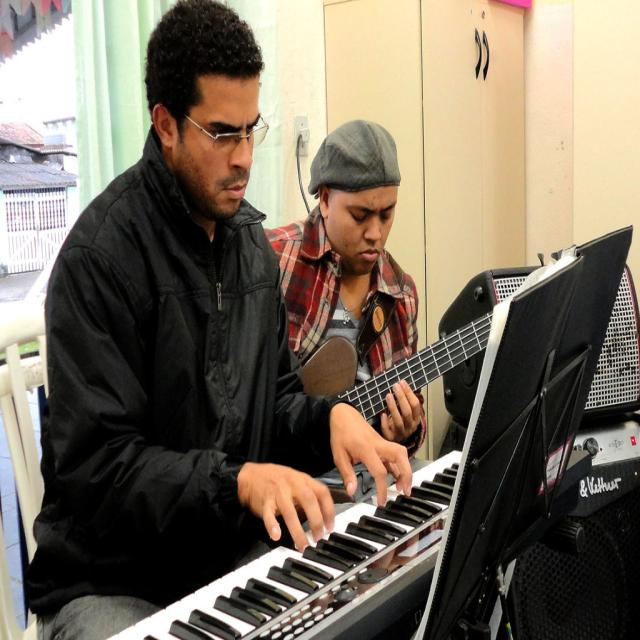no_helmet: (130, 78, 274, 278), (302, 165, 422, 335)
